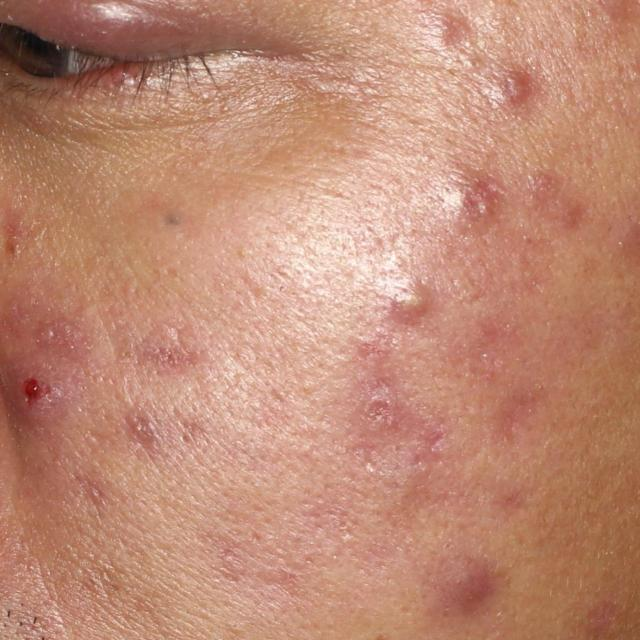nodule: (415, 547, 500, 623), (443, 163, 508, 239), (417, 8, 476, 54), (492, 66, 542, 116)
